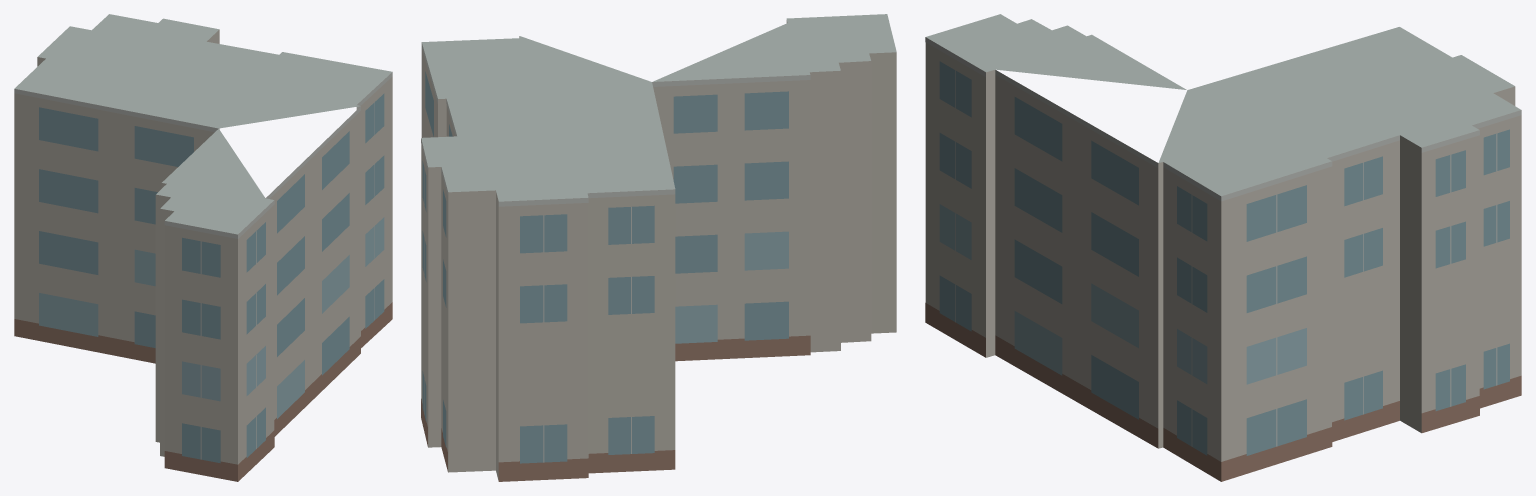
Rendered from survey-upis-32846370.glb.
The picture shows the model from 3 angles, left to right: view 1: azimuth 30°, elevation 25°; view 2: azimuth 150°, elevation 25°; view 3: azimuth 270°, elevation 25°; orthographic projection. The views are drawn at different scales.
Visible parts, largest first — view 1: survey-upis-32846370.tmp; view 2: survey-upis-32846370.tmp; view 3: survey-upis-32846370.tmp.
Part boxes in pixels (bbox=[...]): survey-upis-32846370.tmp: bbox=[14, 14, 392, 481]; survey-upis-32846370.tmp: bbox=[421, 14, 896, 481]; survey-upis-32846370.tmp: bbox=[925, 14, 1521, 481].
Bounding box in the file's own units: 18.5 × 13.5 × 25.55.
